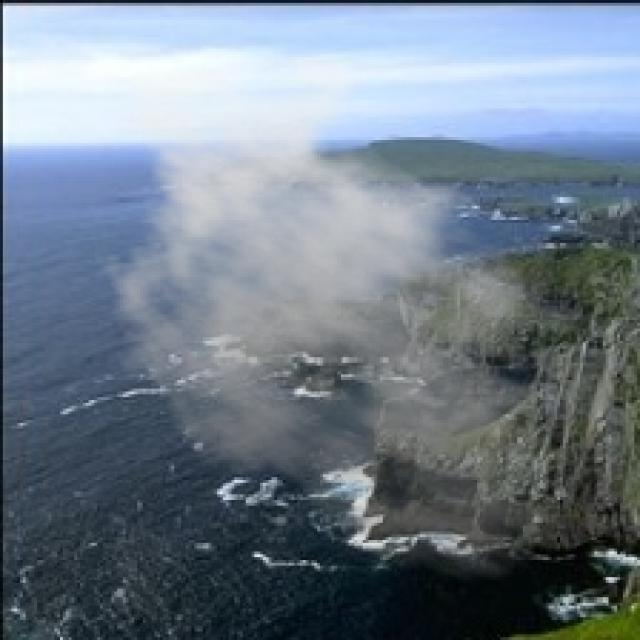smoke: (83, 51, 623, 586)
